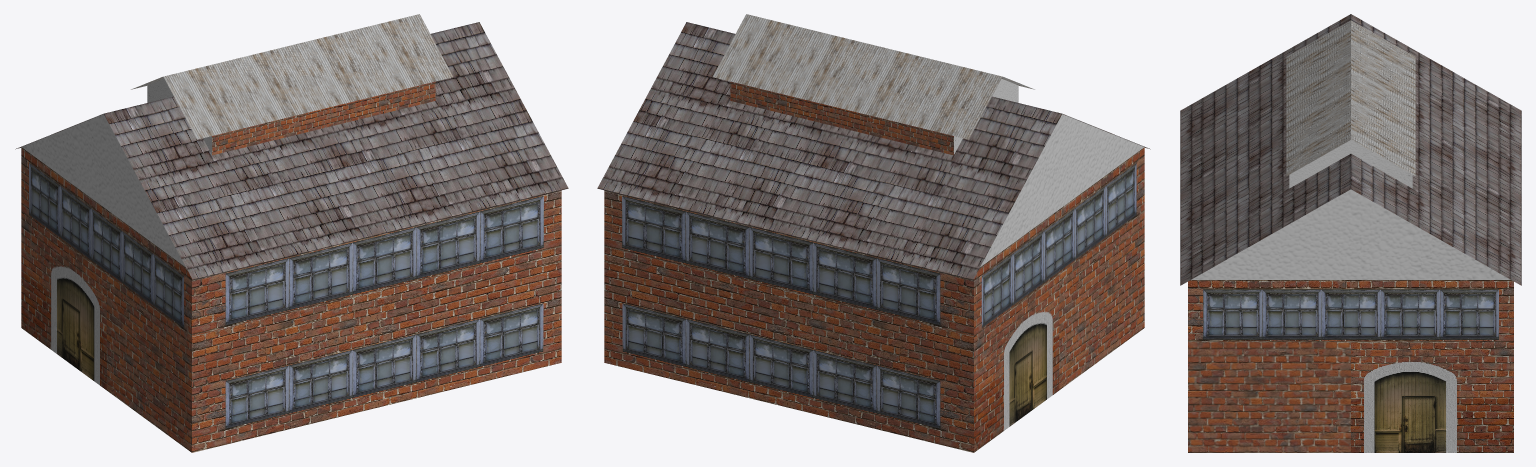
The model's file is Factory_003.dae.
3 views of the same model, side by side, from view 1: azimuth 30°, elevation 25°; view 2: azimuth 150°, elevation 25°; view 3: azimuth 270°, elevation 25° (orthographic). The views are drawn at different scales.
Parts seen in each view (by area): view 1: Factory_003; view 2: Factory_003; view 3: Factory_003.
Part boxes in pixels (left/top/right/bottom): Factory_003: left=15, top=14, right=568, bottom=452; Factory_003: left=597, top=14, right=1150, bottom=452; Factory_003: left=1180, top=14, right=1521, bottom=452.
Size of the model in its own units: 122 by 100 by 93.15.
